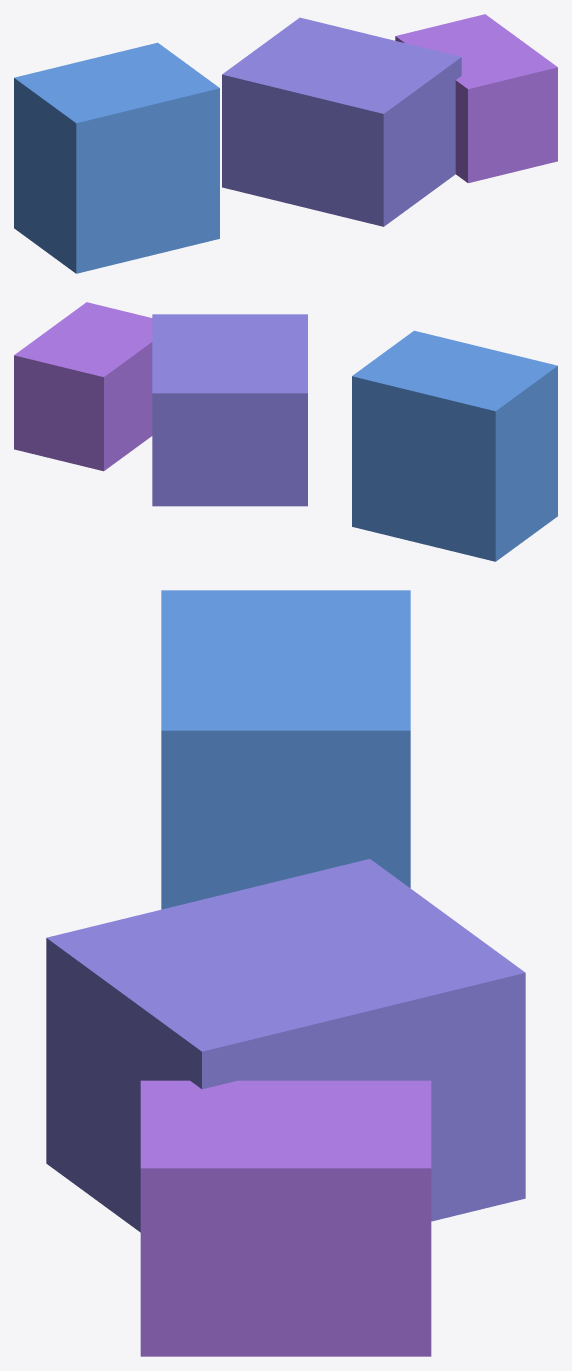
File: three-objects-after.glb
3 views of the same model, one above another, from view 1: azimuth 30°, elevation 25°; view 2: azimuth 150°, elevation 25°; view 3: azimuth 270°, elevation 25° (orthographic). The views are drawn at different scales.
Visible parts, largest first — view 1: block-a, block-b, block-c; view 2: block-a, block-b, block-c; view 3: block-b, block-c, block-a.
Boxes of the visible parts, x1=… form: block-a: x1=14, y1=42, x2=219, y2=273; block-b: x1=222, y1=17, x2=461, y2=226; block-c: x1=395, y1=14, x2=557, y2=183; block-a: x1=352, y1=330, x2=557, y2=561; block-b: x1=152, y1=314, x2=307, y2=506; block-c: x1=14, y1=302, x2=152, y2=471; block-b: x1=46, y1=859, x2=525, y2=1232; block-c: x1=140, y1=1080, x2=431, y2=1356; block-a: x1=161, y1=590, x2=410, y2=909.
Bounding box in the file's own units: 2.65 × 0.8 × 1.15.
